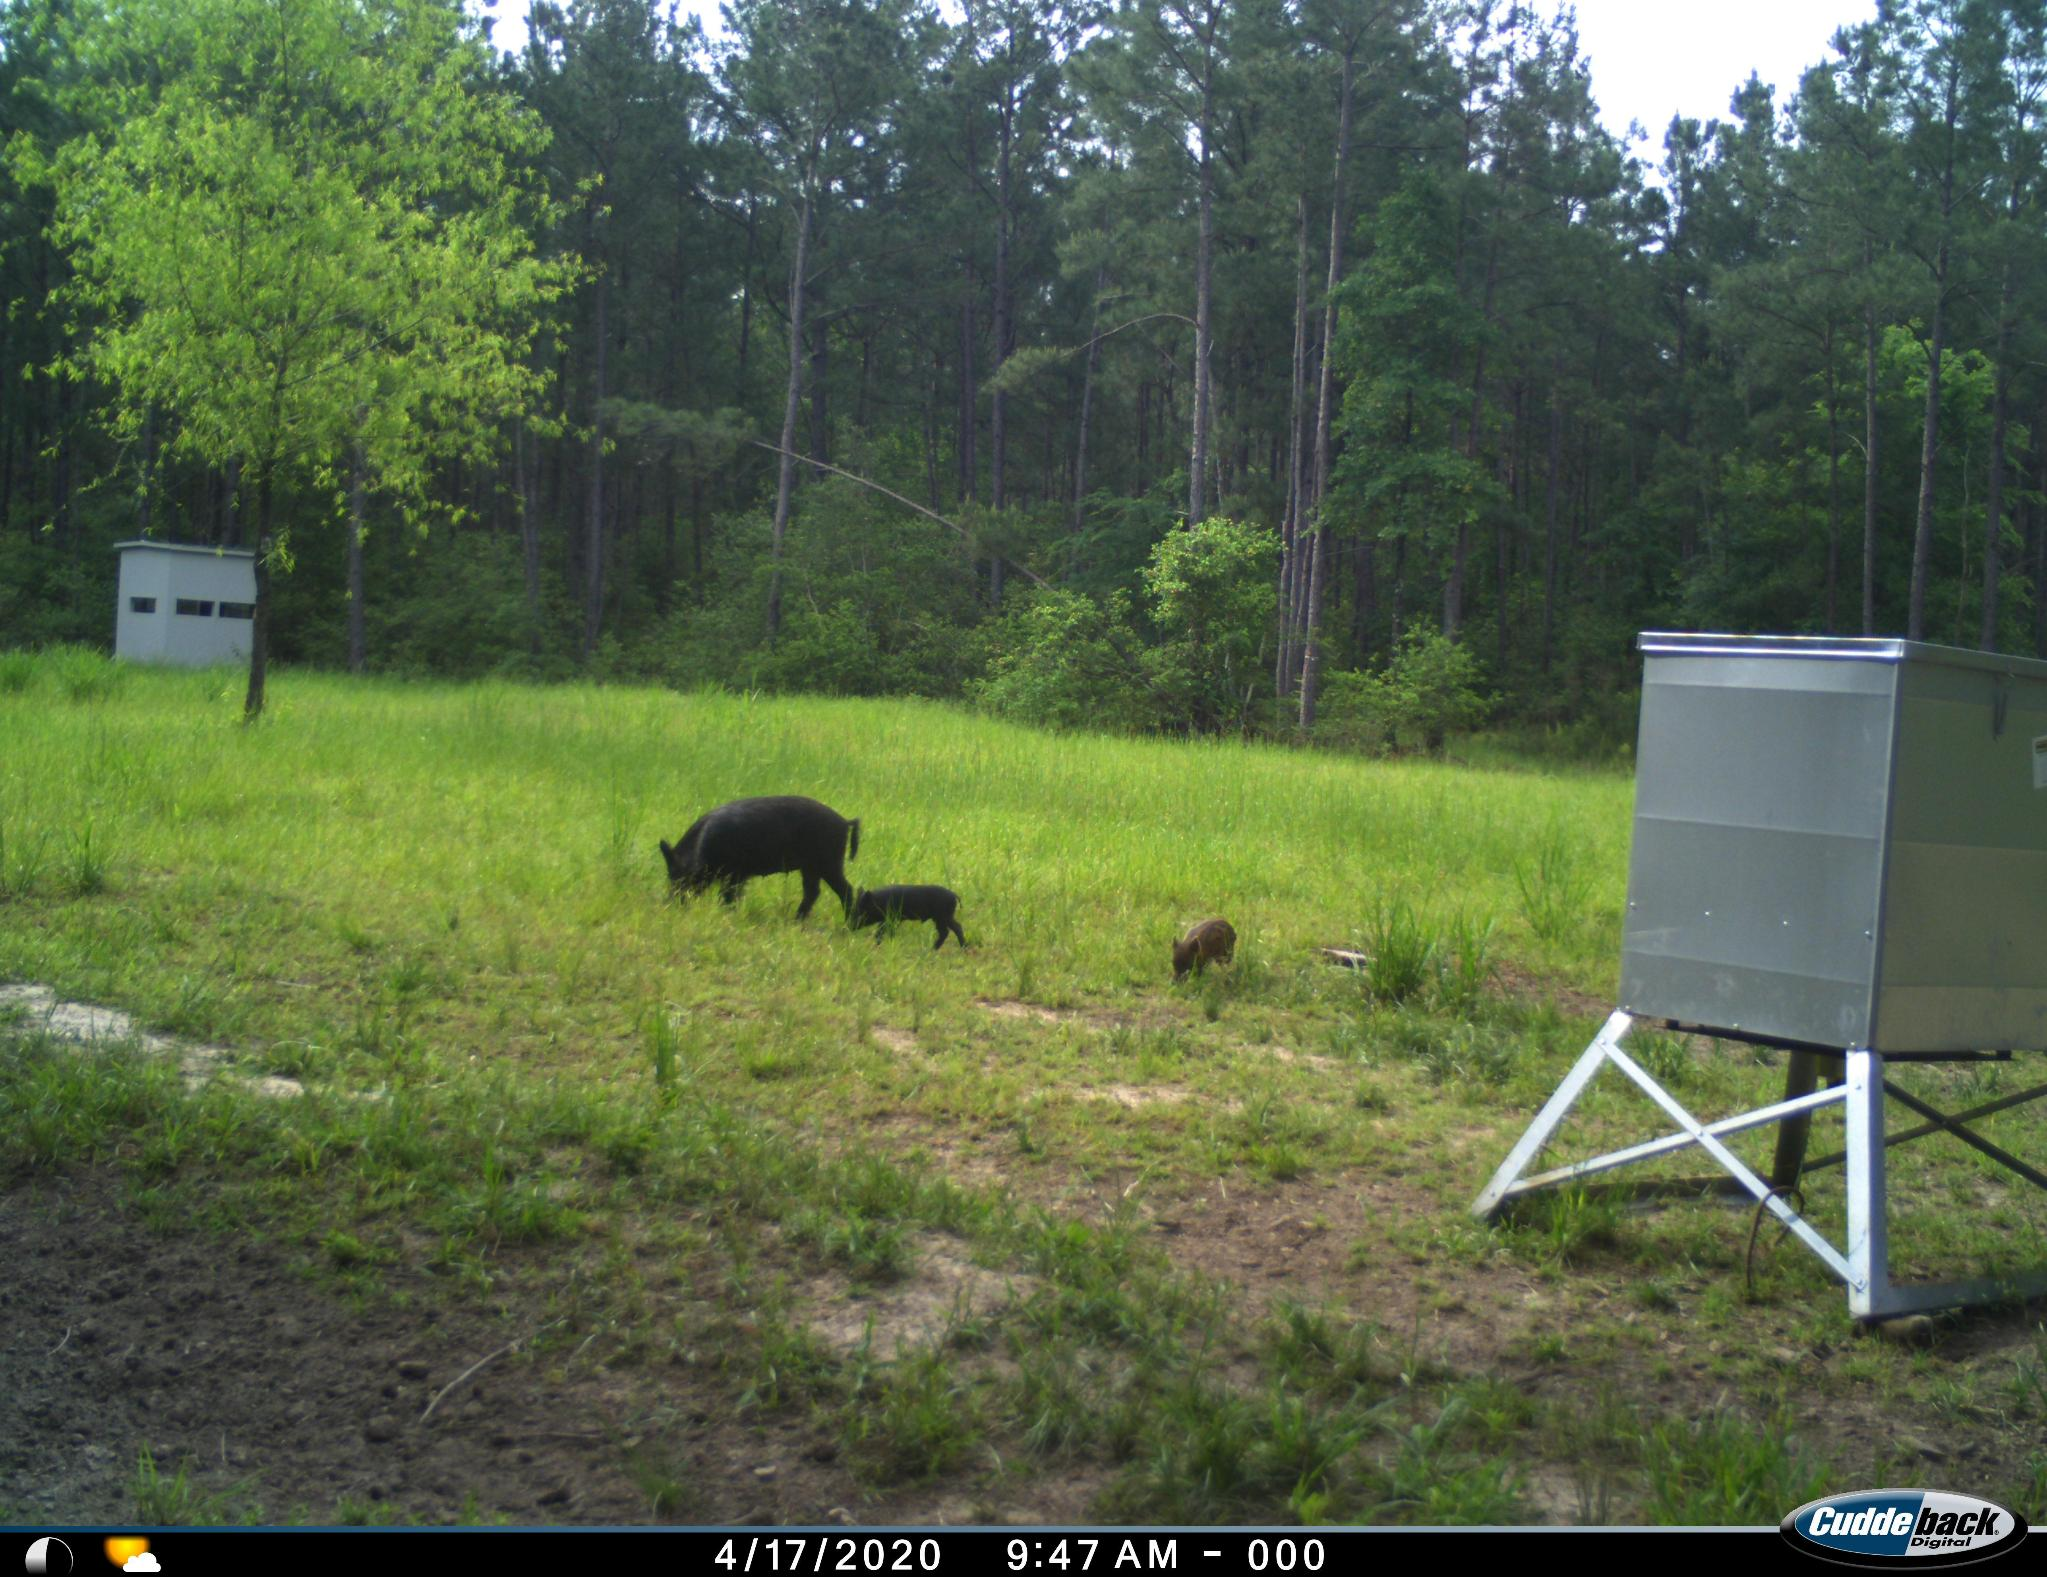Hog: (646, 784, 874, 943), (841, 875, 977, 956), (1163, 909, 1245, 992)
